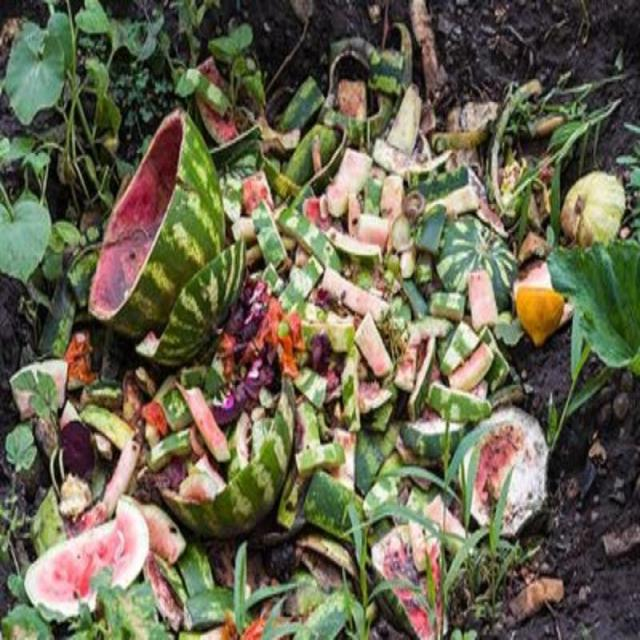Wet Waste: (7, 1, 629, 639)
